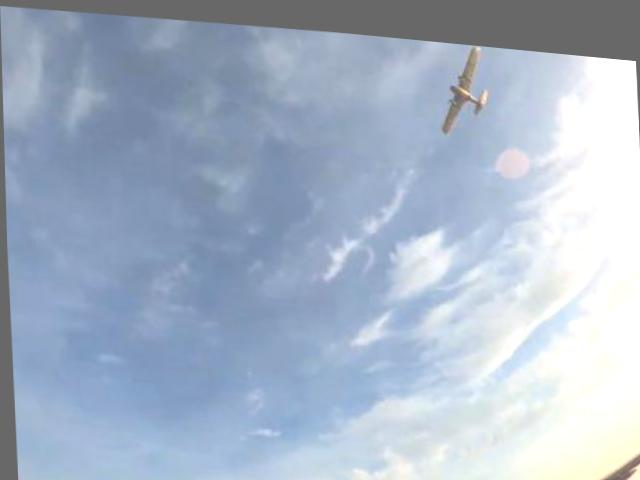uav: (436, 33, 493, 130)
